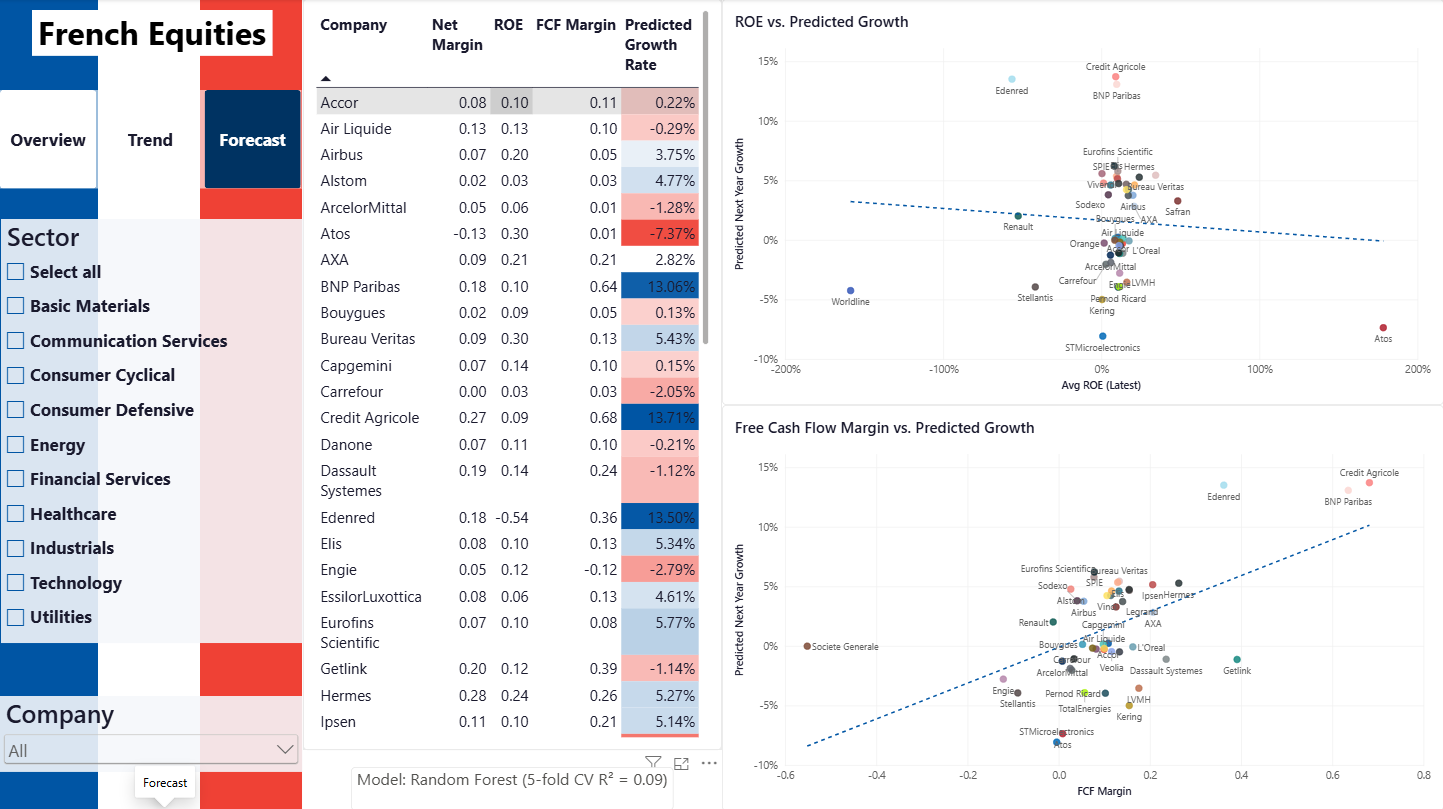

Layout of this report page (visuals, bound fields, positions):
{"tool":"powerbi","page":{"name":"Forecast","canvas":[1920,1080],"ordinal":2},"visuals":[{"type":"scatterChart","title":"Free Cash Flow Margin vs. Predicted Growth","fields":{"Series":["growth_predictions.company_name"],"X":["Avg(financial_ratios.fcf_margin)"],"Y":["Avg(growth_predictions.predicted_next_year_growth)"]},"box":[960,539.8,960,539.8],"z":1000},{"type":"tableEx","fields":{"Values":["growth_predictions.company_name","growth_predictions.net_margin","growth_predictions.roe","Sum(financial_ratios.fcf_margin)","growth_predictions.predicted_next_year_growth"]},"box":[402.7,0,557.3,999.4],"z":2000},{"type":"textbox","box":[466.9,1021.3,428.9,58.4],"z":3000},{"type":"shape","box":[0,0,135,1079.6],"z":4000},{"type":"shape","box":[129.8,0,135.7,1079.6],"z":5000},{"type":"shape","box":[265.5,0,135.7,1079.6],"z":6000},{"type":"pageNavigator","box":[0,121,401.2,131.3],"z":7000},{"type":"textbox","box":[42.3,14.6,319.5,61.3],"z":8000},{"type":"slicer","fields":{"Values":["companies.company_name"]},"box":[0,927,401.7,101.1],"z":9000},{"type":"slicer","fields":{"Values":["companies.sector"]},"box":[1.3,292.6,401.7,563.9],"z":10000},{"type":"scatterChart","title":"ROE vs. Predicted Growth","fields":{"Series":["growth_predictions.company_name"],"X":["financial_ratios.Avg ROE (Latest)"],"Y":["Avg(growth_predictions.predicted_next_year_growth)"]},"box":[960,0,960,539.8],"z":10001}]}

Visuals, with their boxes on the page's 1920x1080 design canvas (x1, y1, x2, y2). These are canvas units, not pixel positions in the 1443x809 screenshot, which may show the page scaled, cropped or inside an application window:
"Free Cash Flow Margin vs. Predicted Growth" scatterChart: box=[960, 540, 1920, 1080]
tableEx - growth_predictions.company_name x growth_predictions.net_margin: box=[403, 0, 960, 999]
textbox: box=[467, 1021, 896, 1080]
shape: box=[0, 0, 135, 1080]
shape: box=[130, 0, 266, 1080]
shape: box=[266, 0, 401, 1080]
pageNavigator: box=[0, 121, 401, 252]
textbox: box=[42, 15, 362, 76]
slicer - companies.company_name: box=[0, 927, 402, 1028]
slicer - companies.sector: box=[1, 293, 403, 856]
"ROE vs. Predicted Growth" scatterChart: box=[960, 0, 1920, 540]
